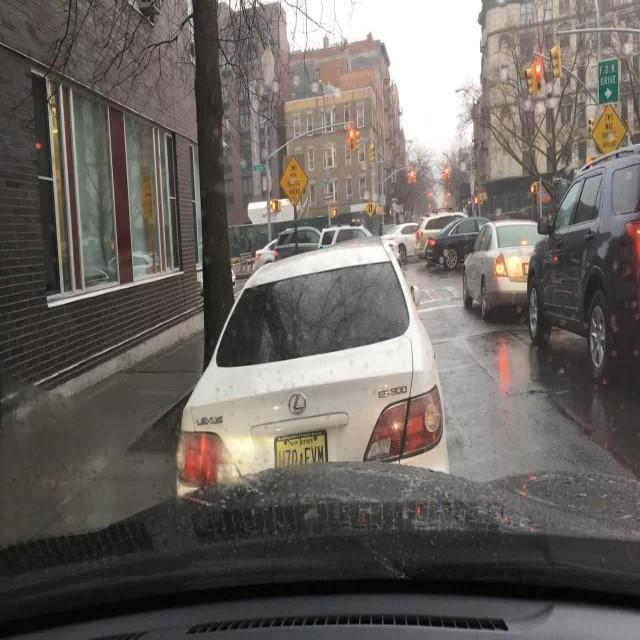normal: (528, 148, 640, 392), (462, 220, 544, 323), (427, 216, 493, 270), (246, 224, 322, 268), (412, 213, 464, 264), (316, 224, 377, 249), (380, 222, 418, 261)
